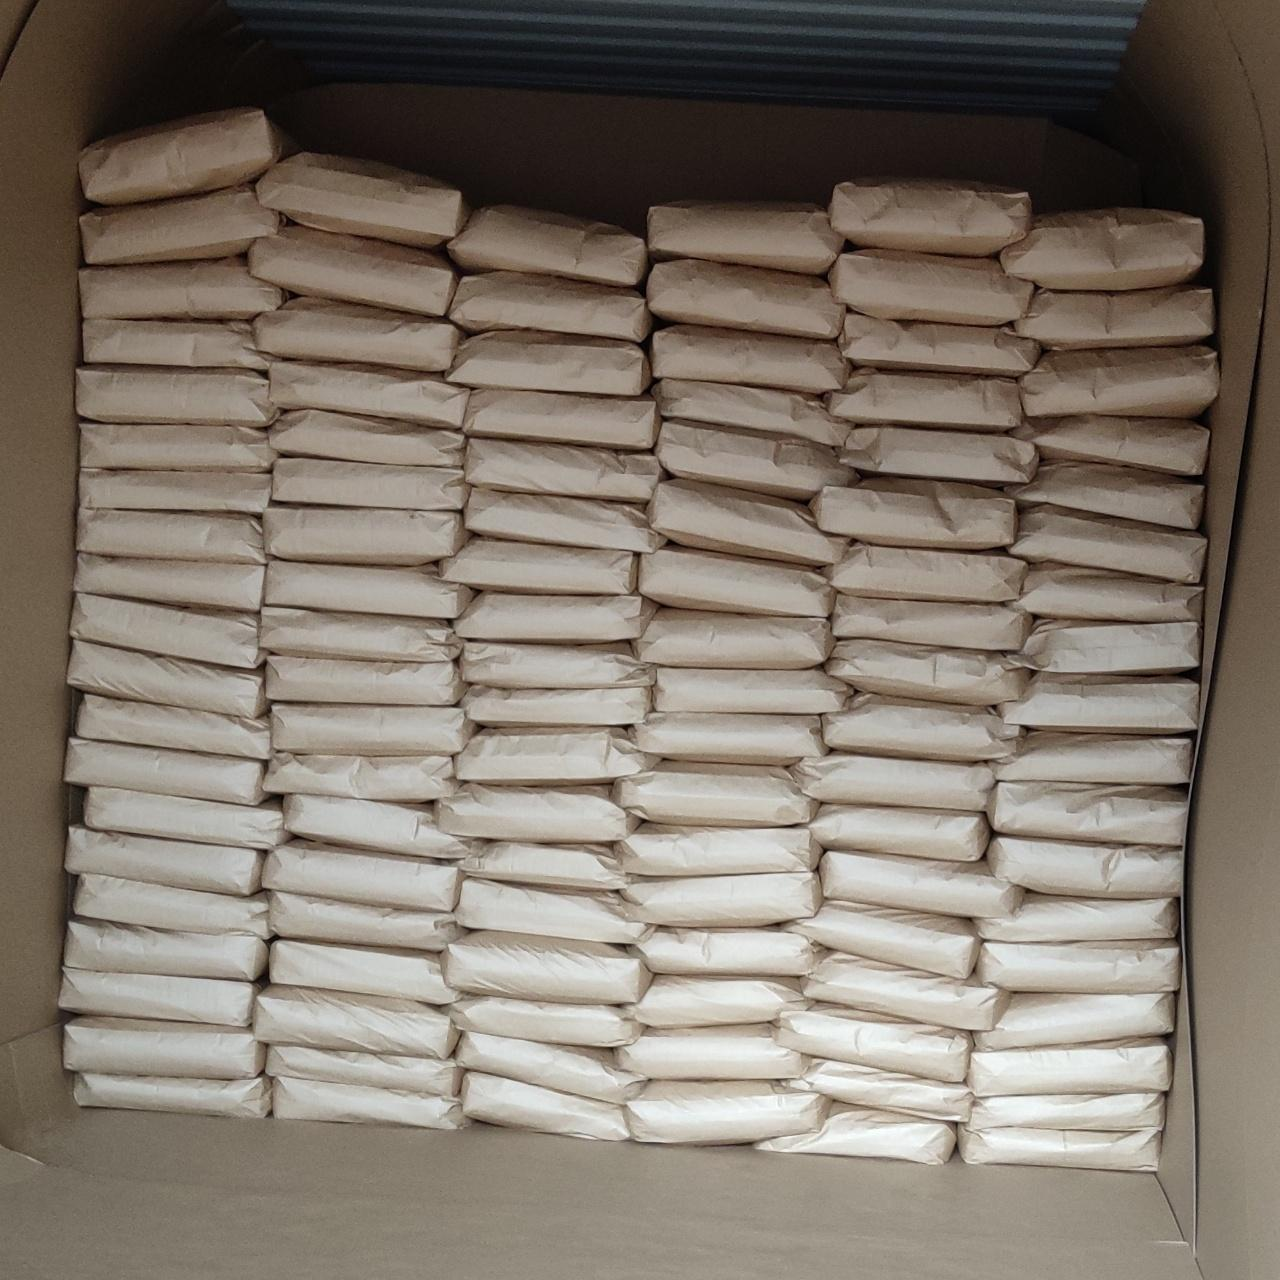sack: (256, 152, 467, 248), (79, 108, 287, 204), (248, 226, 456, 315), (647, 478, 851, 567), (1000, 208, 1203, 290), (448, 206, 647, 286), (656, 421, 857, 500), (803, 952, 1008, 1029), (647, 260, 844, 340), (253, 297, 463, 372), (81, 186, 282, 264), (828, 179, 1031, 256), (829, 249, 1033, 325), (68, 640, 266, 718), (254, 984, 458, 1059), (442, 931, 651, 1003), (782, 901, 977, 978), (1009, 506, 1206, 582), (774, 1006, 971, 1081), (810, 478, 1014, 549), (70, 593, 262, 668), (1019, 346, 1218, 418), (646, 202, 844, 274), (449, 272, 650, 342), (262, 839, 460, 910), (640, 547, 832, 619), (65, 826, 264, 895), (651, 325, 849, 394), (819, 851, 1022, 917), (458, 1031, 643, 1103), (270, 361, 468, 428), (446, 331, 650, 396), (614, 761, 817, 826), (653, 379, 849, 446), (84, 786, 287, 850), (65, 738, 264, 803), (823, 695, 1021, 760), (825, 641, 1029, 704), (456, 878, 653, 943), (839, 313, 1039, 377), (80, 257, 283, 320), (781, 1056, 974, 1122), (987, 782, 1188, 845), (626, 1081, 830, 1143), (73, 875, 270, 939), (464, 488, 661, 552), (1014, 286, 1213, 349), (64, 1017, 265, 1079), (75, 695, 269, 759), (466, 438, 660, 502), (987, 836, 1182, 899), (1014, 462, 1202, 527), (64, 920, 267, 980), (266, 560, 472, 619), (76, 366, 275, 427), (264, 505, 465, 565), (755, 1104, 955, 1164), (270, 940, 457, 1004), (638, 608, 833, 669), (967, 1040, 1171, 1098), (999, 674, 1199, 733), (826, 372, 1022, 432), (285, 795, 468, 859), (463, 390, 657, 450), (790, 754, 994, 811), (434, 784, 637, 841), (831, 593, 1030, 651), (1012, 416, 1207, 475), (840, 427, 1038, 485), (59, 969, 255, 1027), (462, 1072, 629, 1140), (977, 993, 1174, 1050), (831, 545, 1027, 602), (456, 729, 658, 784), (74, 554, 265, 612), (270, 892, 457, 951), (442, 538, 637, 594), (1018, 563, 1202, 622), (272, 410, 462, 467), (616, 823, 819, 876), (976, 940, 1179, 993), (260, 607, 459, 661), (615, 1024, 810, 1079), (621, 872, 822, 925), (991, 732, 1192, 785), (271, 703, 473, 755), (267, 1045, 458, 1099), (454, 592, 656, 643), (810, 804, 989, 861), (272, 1076, 464, 1129), (272, 458, 467, 510), (634, 711, 825, 764), (77, 509, 263, 563), (634, 928, 829, 978), (267, 656, 463, 705), (449, 997, 640, 1047), (977, 893, 1178, 940), (84, 320, 268, 371), (81, 424, 276, 472), (654, 667, 851, 714), (623, 976, 806, 1026), (265, 753, 455, 801), (1021, 622, 1199, 673), (958, 1125, 1159, 1170), (463, 641, 651, 689), (74, 1073, 271, 1118), (80, 468, 270, 514), (460, 842, 627, 890), (964, 1093, 1163, 1130), (462, 686, 649, 725)
